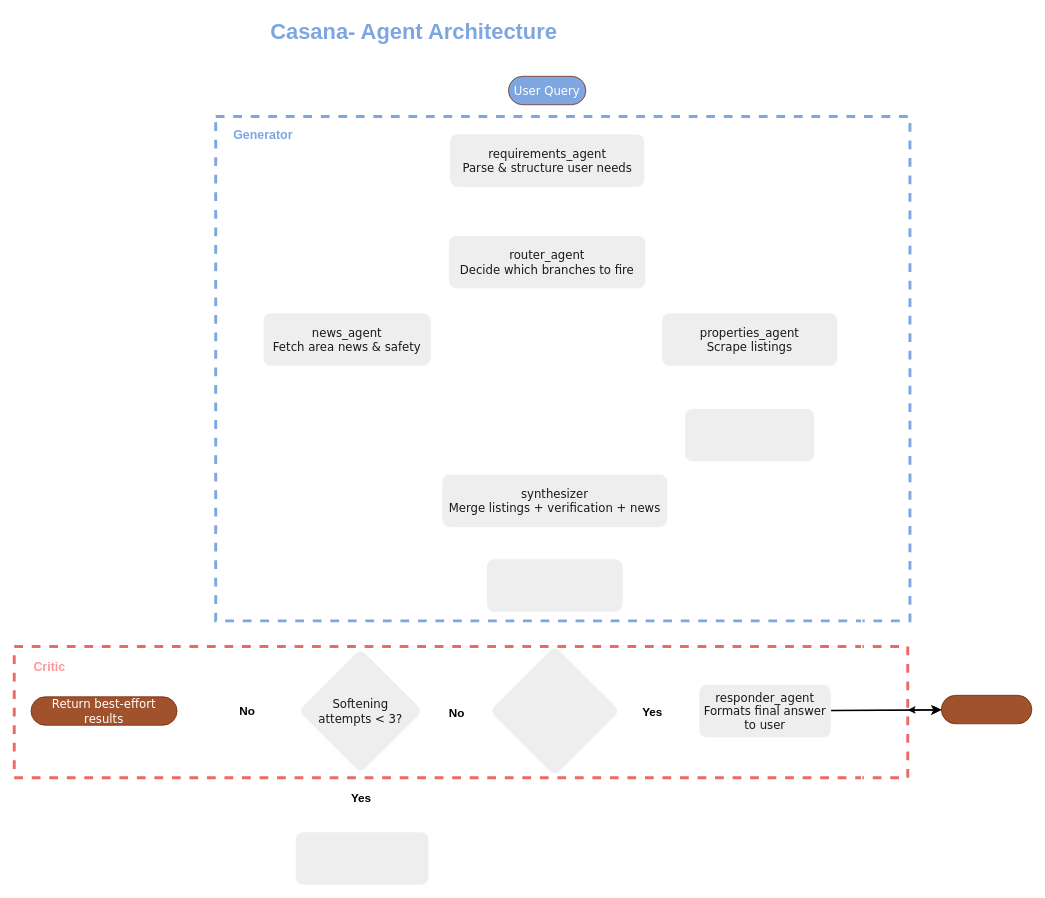
This 1045x898 diagram has some shape labels left out. The centre of each missing label's shape, as x and y in pixels:
"evaluator_agent Review & Critique" belongs at [554,585].
"Meets requirements?" belongs at [554,710].
"Return results" belongs at [986,709].
"softener_agent Relax constraints" belongs at [362,858].
"whatsapp_agent Verify availability" belongs at [749,435].
